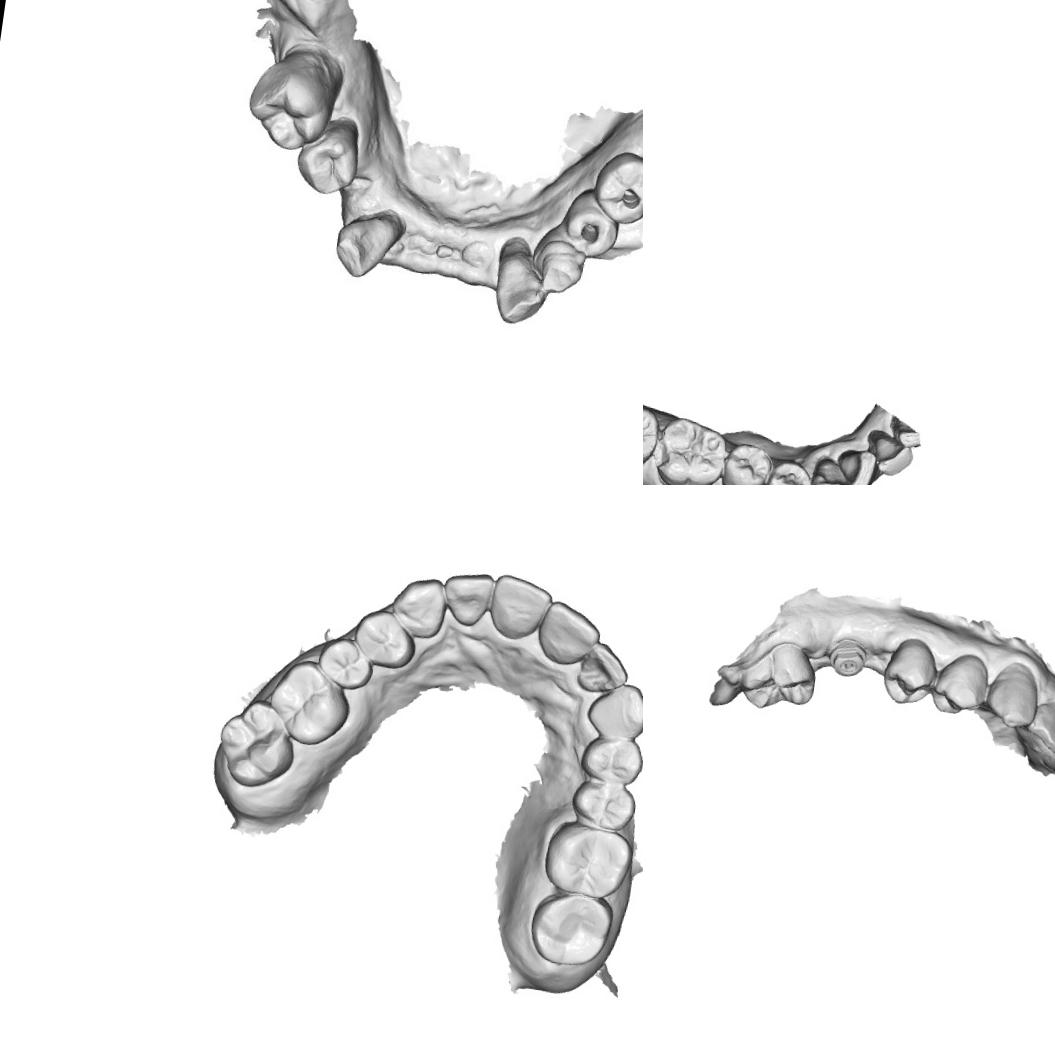canine: (488, 240, 552, 333), (327, 207, 402, 285), (982, 656, 1045, 732), (388, 568, 450, 641), (582, 678, 643, 744), (806, 455, 864, 485)
implant_minus: (823, 635, 872, 681)
incisor: (532, 596, 604, 672), (484, 572, 556, 645), (437, 567, 495, 632), (572, 638, 634, 697), (860, 427, 914, 485), (1024, 697, 1055, 757), (833, 446, 878, 485), (1039, 754, 1055, 797)
molar: (236, 55, 337, 156), (261, 654, 357, 752), (210, 694, 302, 794), (536, 818, 639, 904), (524, 887, 616, 973), (734, 634, 822, 718), (651, 413, 731, 485), (593, 153, 643, 224), (643, 395, 663, 476)
premolar: (290, 123, 358, 198), (350, 606, 421, 674), (880, 632, 940, 710), (928, 648, 993, 720), (555, 189, 621, 256), (567, 776, 639, 834), (314, 633, 378, 694), (531, 231, 589, 298), (576, 731, 643, 786), (719, 438, 776, 485), (762, 456, 815, 485)
